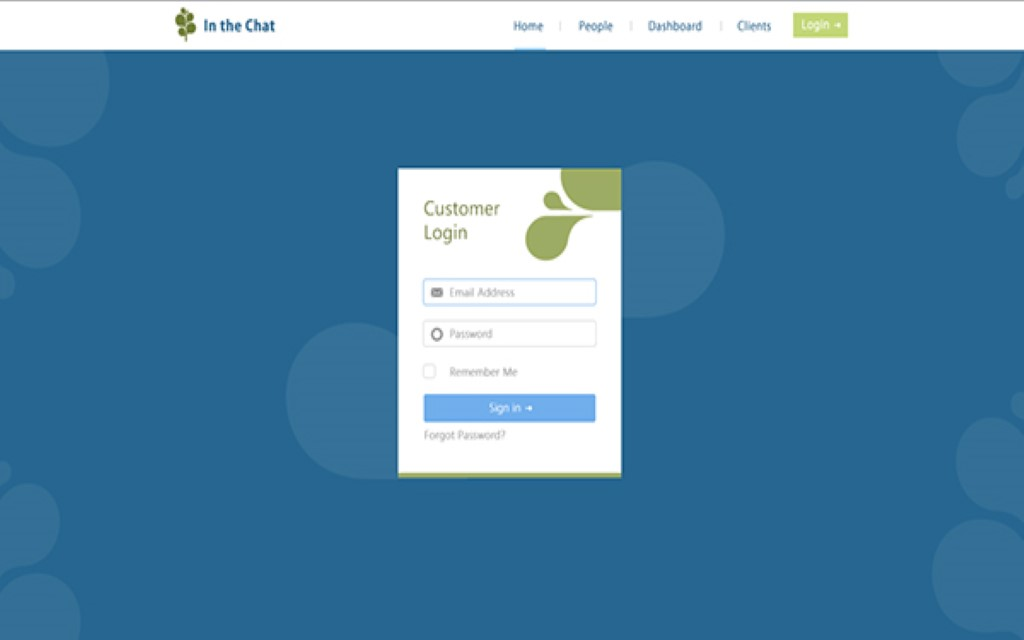checkbox: (420, 363, 438, 380)
label_SignIn: (486, 399, 523, 416)
label_email: (449, 285, 516, 301)
label_home: (510, 16, 549, 35)
label_password: (447, 325, 495, 342)
label_remember: (447, 364, 521, 381)
textbox: (423, 393, 595, 423), (425, 319, 598, 347), (423, 280, 596, 305)
